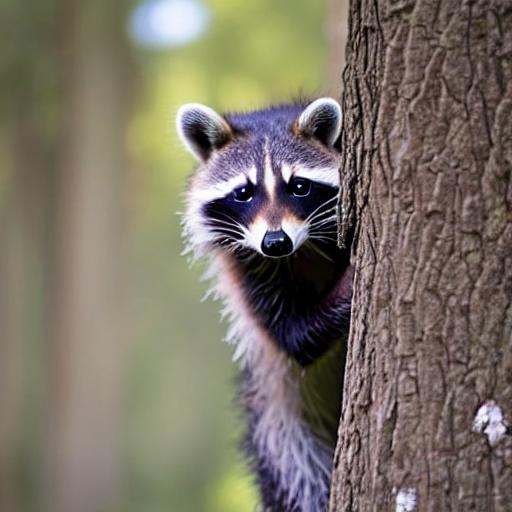raccoon: (174, 90, 342, 512)
